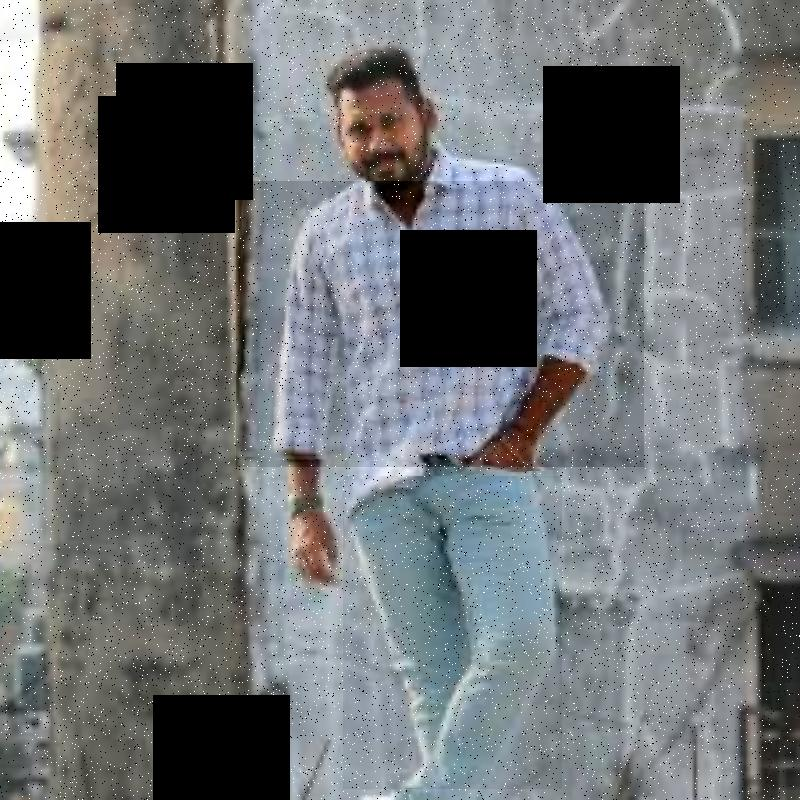Shirt: (236, 181, 644, 467), (343, 477, 561, 789)
